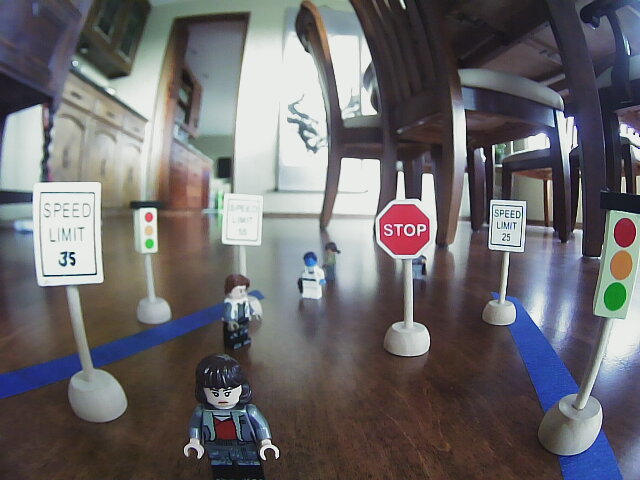SpeedLimit25: (487, 199, 524, 253)
SpeedLimit35: (34, 183, 106, 281)
SpeedLimit55: (220, 189, 262, 245)
StopSign: (375, 201, 431, 259)
TrafficLight: (597, 190, 637, 326), (128, 199, 159, 259)
person: (181, 352, 284, 478), (213, 265, 268, 352), (289, 251, 325, 303), (323, 241, 344, 286), (415, 253, 427, 285)
